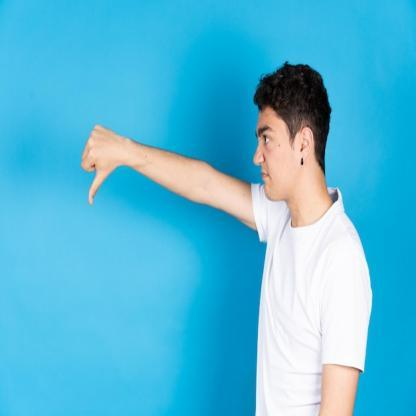thumb_up: (80, 119, 122, 208)
